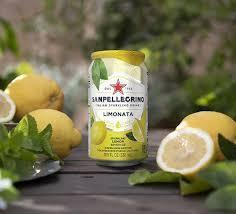lemon: (22, 108, 81, 160), (156, 127, 215, 178), (176, 110, 236, 160), (4, 72, 64, 120), (0, 88, 16, 124)
